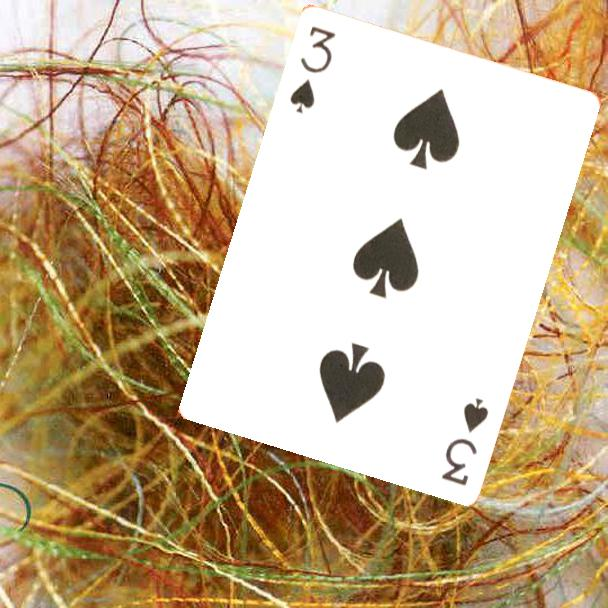s03: (437, 394, 492, 489), (286, 21, 338, 115)
